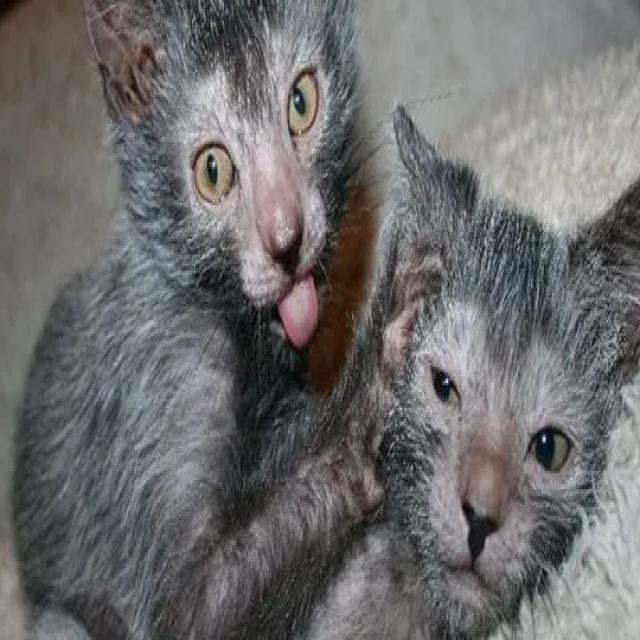Lykoi: (13, 0, 382, 640), (335, 83, 640, 640)
